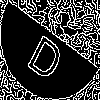D: (25, 25, 71, 84)
